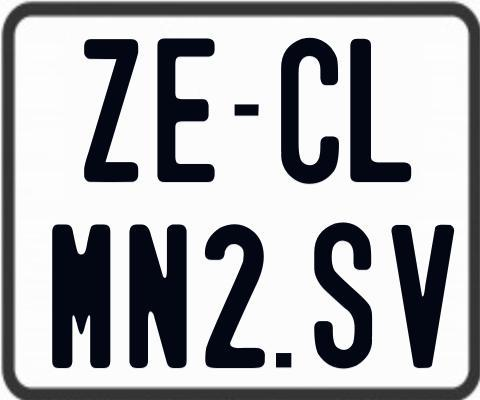2: (204, 224, 270, 369)
C: (279, 38, 343, 190)
E: (157, 35, 219, 184)
L: (347, 36, 412, 181)
M: (51, 222, 110, 367)
N: (129, 223, 192, 371)
S: (311, 221, 373, 373)
V: (392, 225, 460, 371)
Z: (82, 37, 142, 180)
